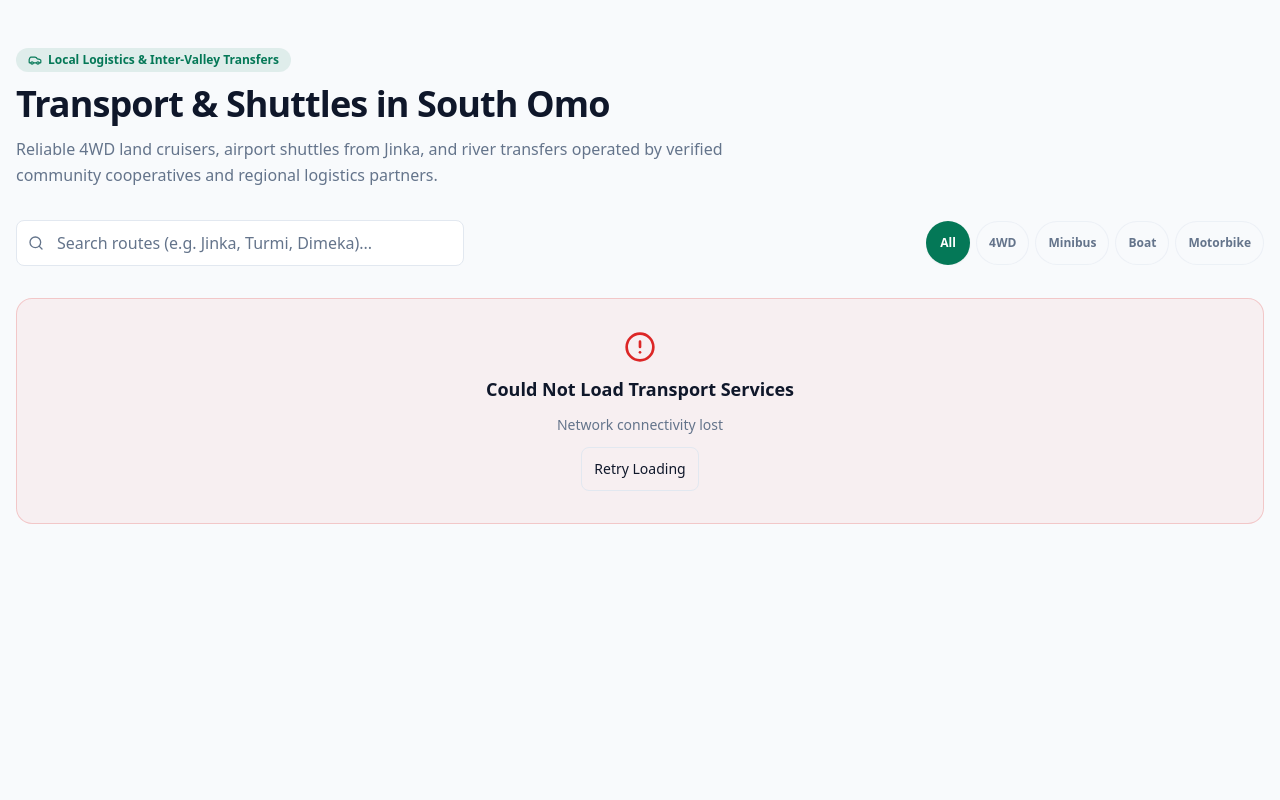
Transport services (F-306) › renders error state and permits retry
The image size is (1280, 800).
Check: the message "Could Not Load Transport Services Network connectivity lost Retry Loading" is shown, box x1=16 y1=298 x2=1264 y2=524
Check: the text "Network connectivity lost" is shown, box x1=557 y1=415 x2=723 y2=434
Click the button "Retry Loading". click: (640, 469)
box: x1=581 y1=447 x2=699 y2=491
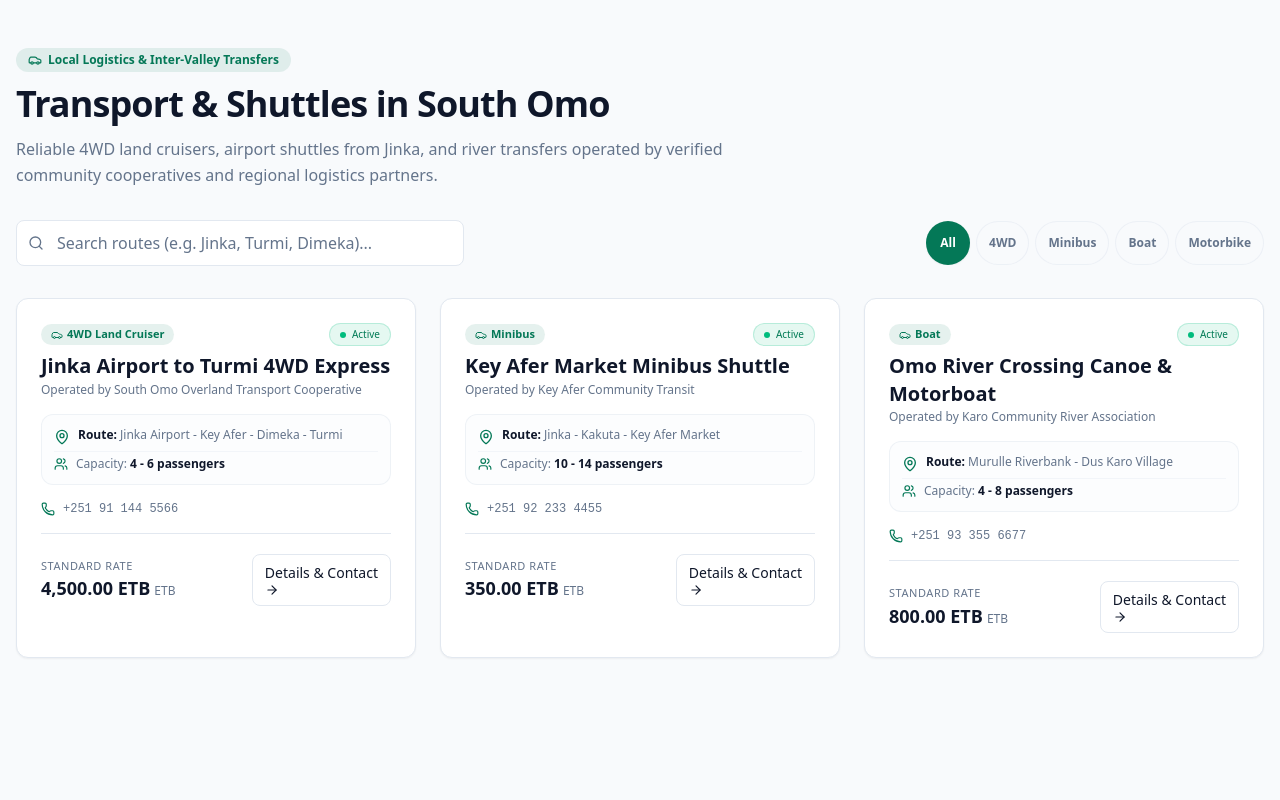
Check: the heading "Jinka Airport to Turmi 4WD Express" is shown, box x1=41 y1=352 x2=391 y2=380
